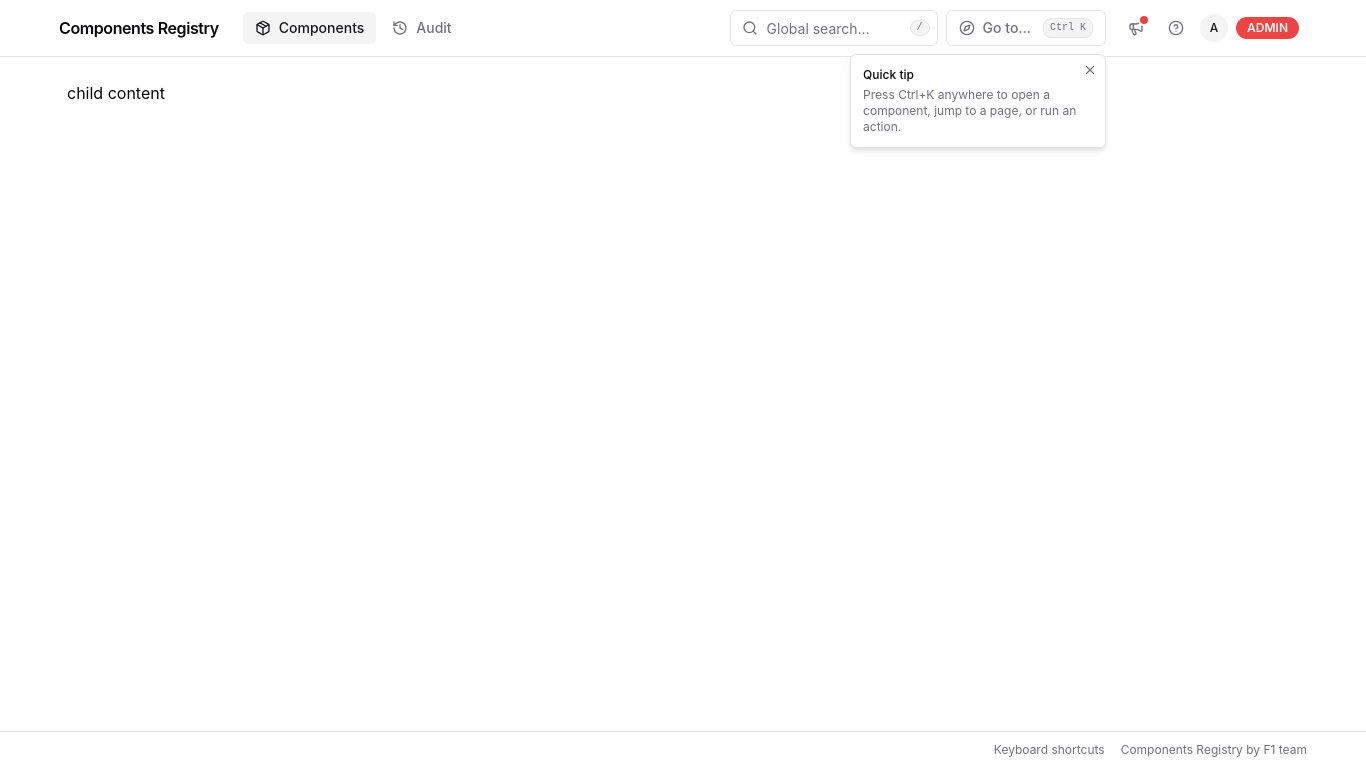
Test: Layout Validations nav — adminMode + IMPORT_DATA double-gate › shows Validations for an IMPORT_DATA holder when adminMode is on
Click the button with aria-label "Account".
click(1253, 28)  # box [1198, 10, 1307, 46]
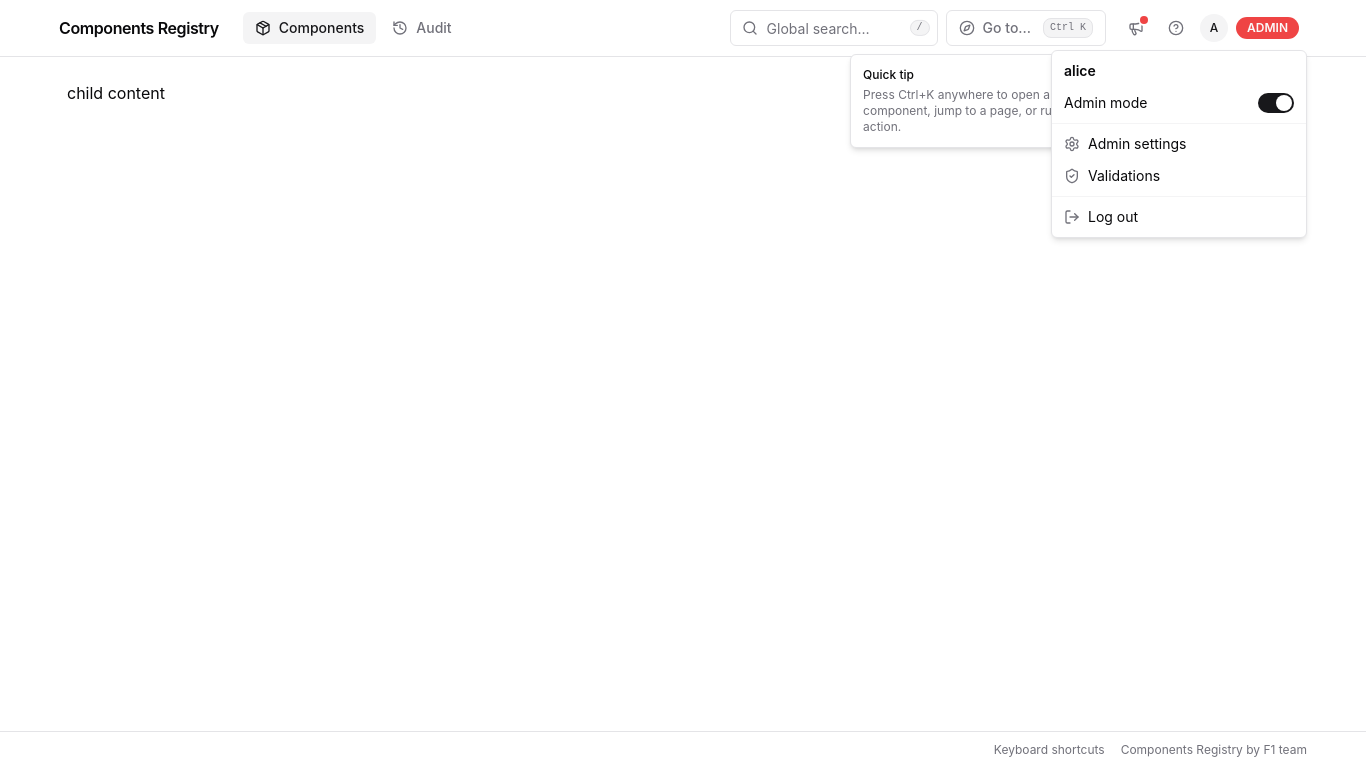
Check: the menu item "Validations" is shown, box [1064, 167, 1160, 184]
